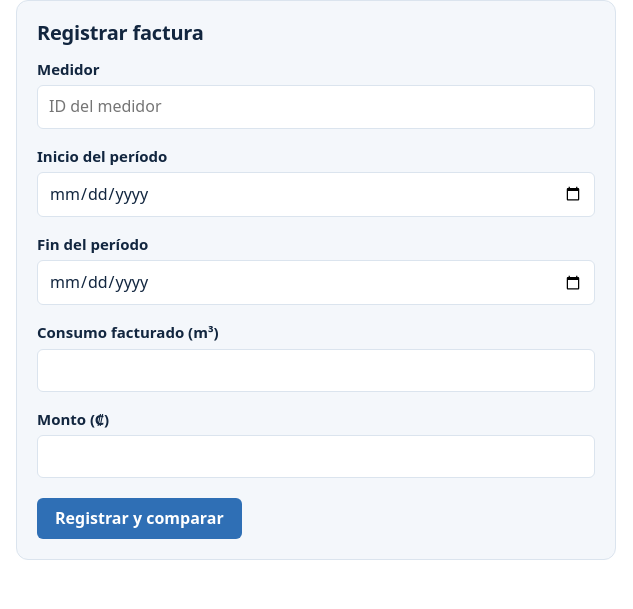
Test: PantallaFactura › muestra el error del servidor si falla el registro
The width and height of the screenshot is (633, 609).
In the field labelled "Medidor": (316, 107) [37, 85, 595, 129], type "medidor-1"
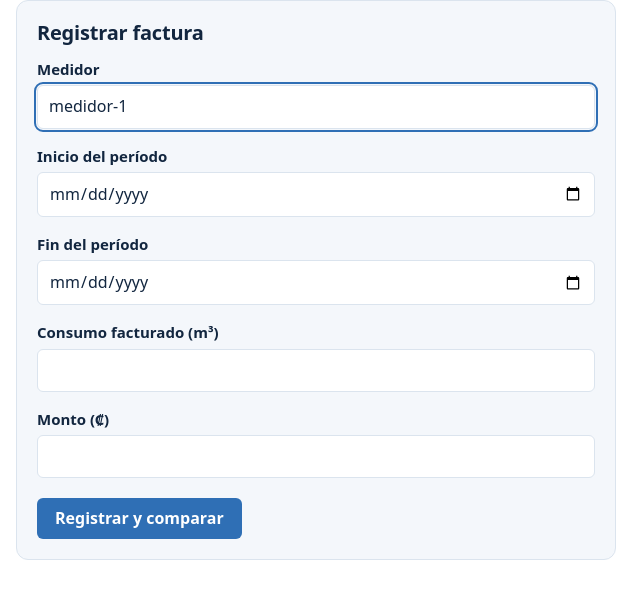
In the date field labelled "Inicio del período": (316, 194) [37, 172, 595, 217], type "2026-07-01"
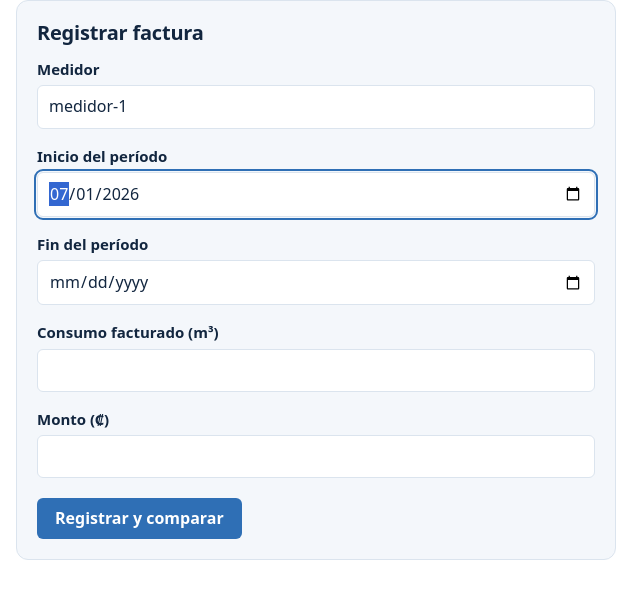
In the date field labelled "Fin del período": (316, 283) [37, 260, 595, 305], type "2026-08-01"
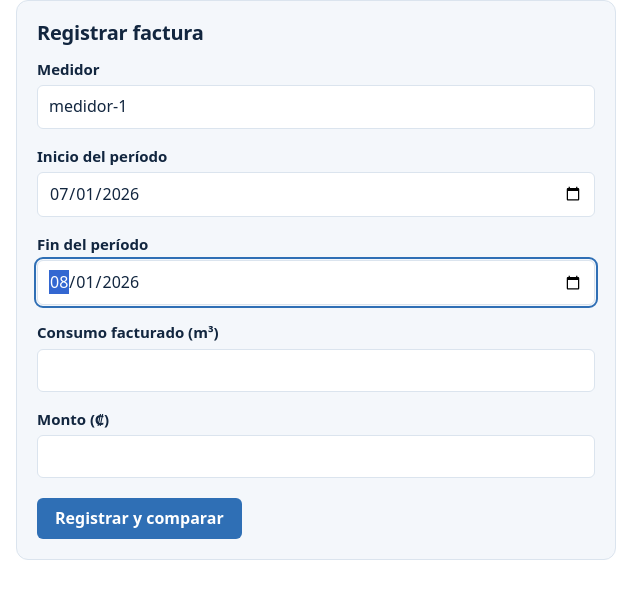
In the field labelled "Consumo facturado (m³)": (316, 370) [37, 349, 595, 392], type "14"
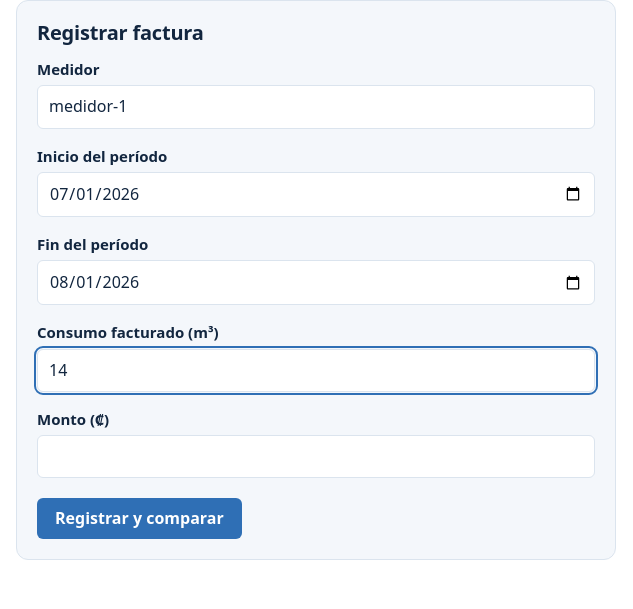
In the field labelled "Monto (₡)": (316, 457) [37, 435, 595, 478], type "8250"
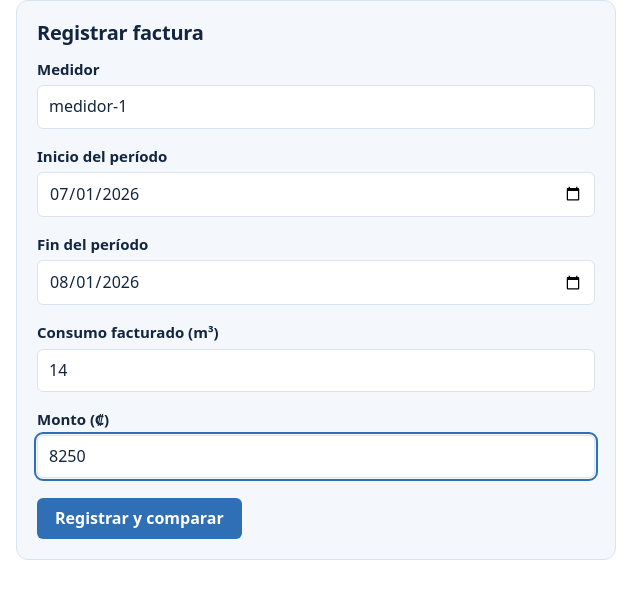
Click the button "Registrar y comparar": (139, 519) [37, 498, 242, 539]
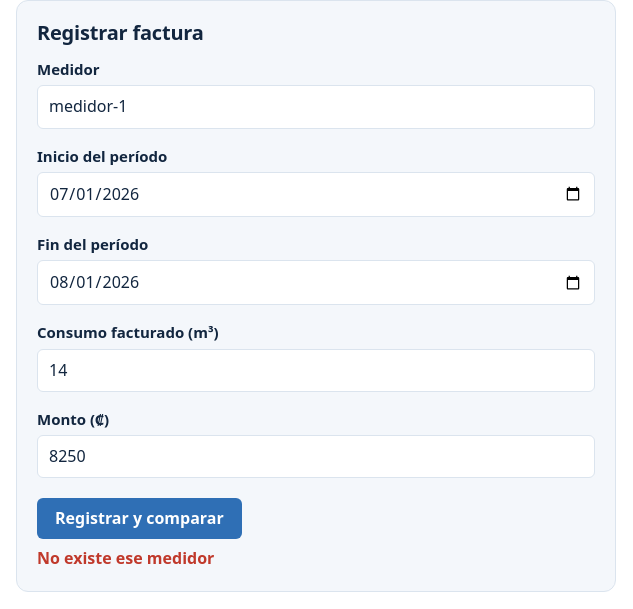
Result: the text "No existe ese medidor" is shown at [37, 547, 214, 569]
